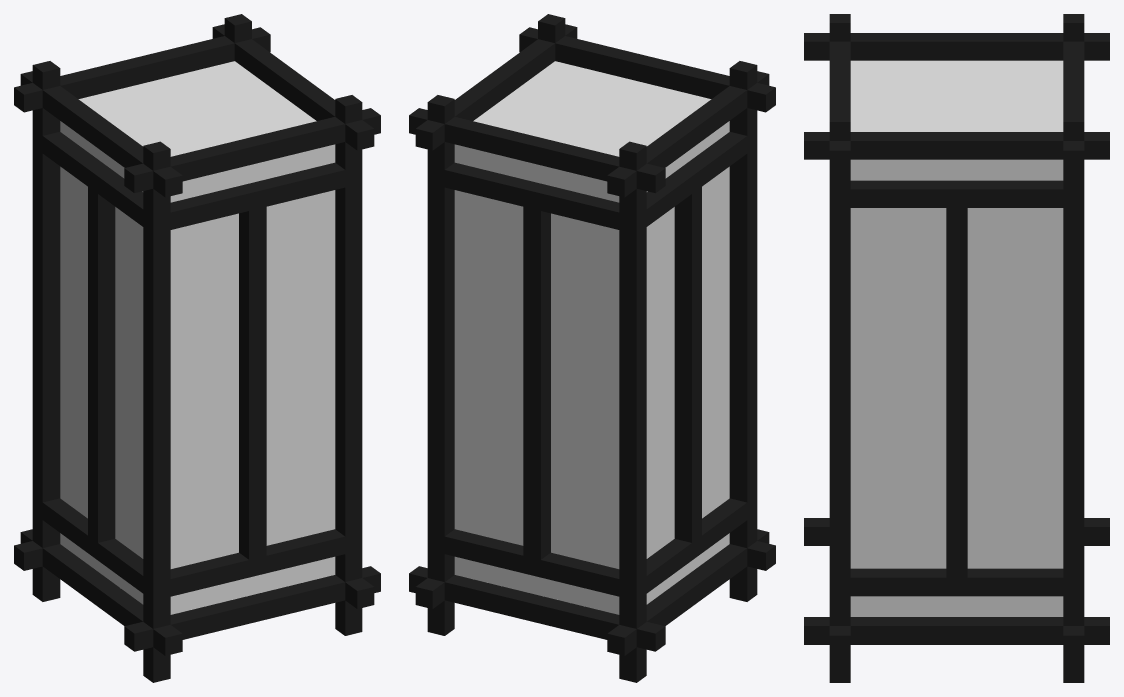
The model's file is WhiteLantern.glb.
3 views of the same model, side by side, from view 1: azimuth 30°, elevation 25°; view 2: azimuth 150°, elevation 25°; view 3: azimuth 270°, elevation 25° (orthographic). The views are drawn at different scales.
Visible parts, largest first — view 1: Lamp_2A; view 2: Lamp_2A; view 3: Lamp_2A.
Part boxes in pixels (box(x1,y1,x2,y2)): Lamp_2A: box(14, 14, 380, 682); Lamp_2A: box(409, 14, 775, 682); Lamp_2A: box(804, 14, 1109, 682).
Size of the model in its own units: 0.1808 by 0.3713 by 0.1835.
Materials: 2 (1 with a texture image).
